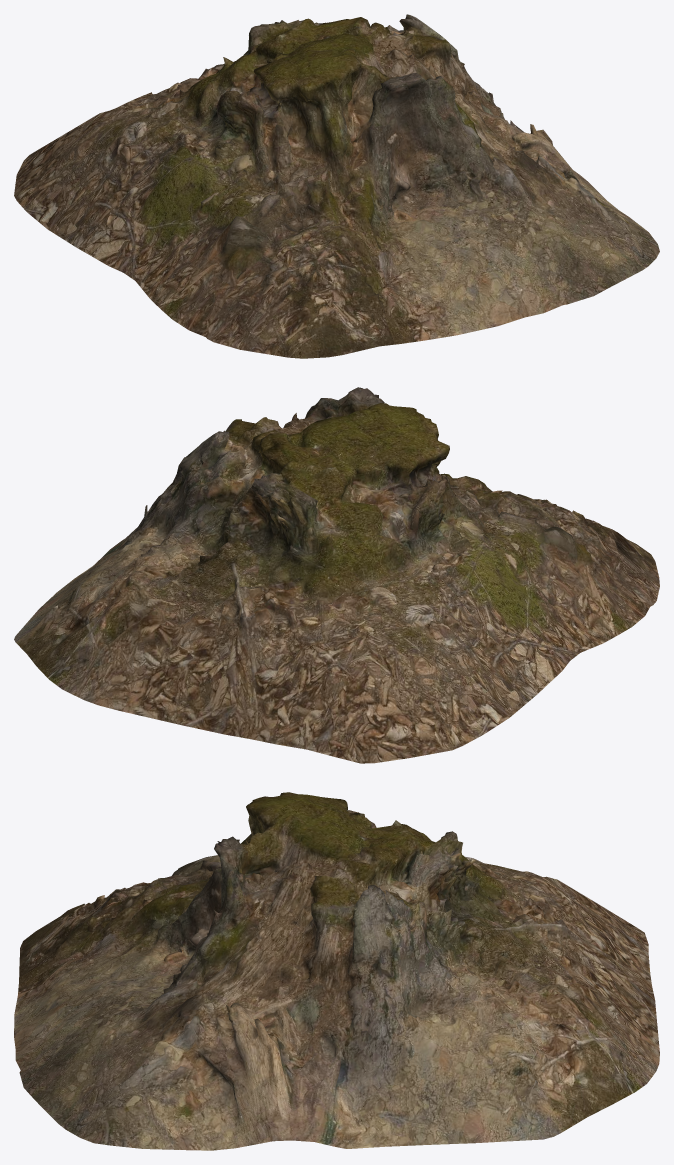
File: stump.glb
The picture shows the model from 3 angles, top to bottom: view 1: azimuth 30°, elevation 25°; view 2: azimuth 150°, elevation 25°; view 3: azimuth 270°, elevation 25°; orthographic projection. The views are drawn at different scales.
Parts seen in each view (by area): view 1: tree_stump_01; view 2: tree_stump_01; view 3: tree_stump_01.
Part boxes in pixels (x1,y1,x2,y2): tree_stump_01: (14, 14, 659, 358); tree_stump_01: (14, 387, 659, 763); tree_stump_01: (14, 792, 659, 1150).
Size of the model in its own units: 1.74 by 0.6998 by 1.94.
Materials: 1 (1 with a texture image).
